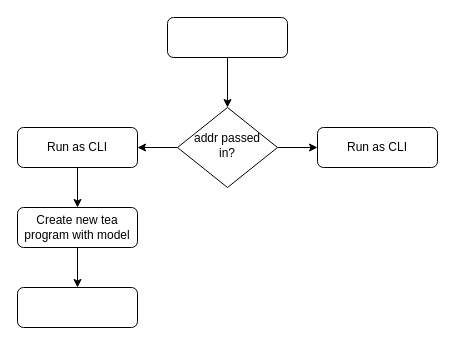
The diagram is 455 pixels wide and 345 high, and some of its shapes have lost their labels. The shapes that lost their labels are listed below. From the top down, each one's centre as x and y in pixels, then its label:
the point at 227,37: main()
the point at 77,307: Start team program
